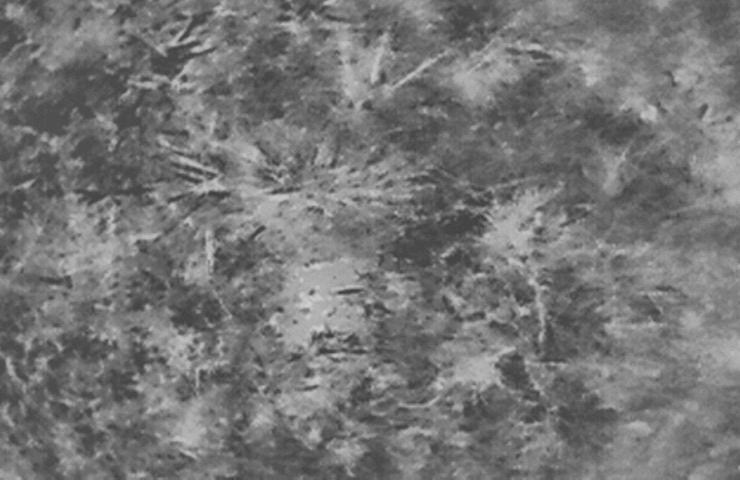landmines: (287, 257, 377, 345)
